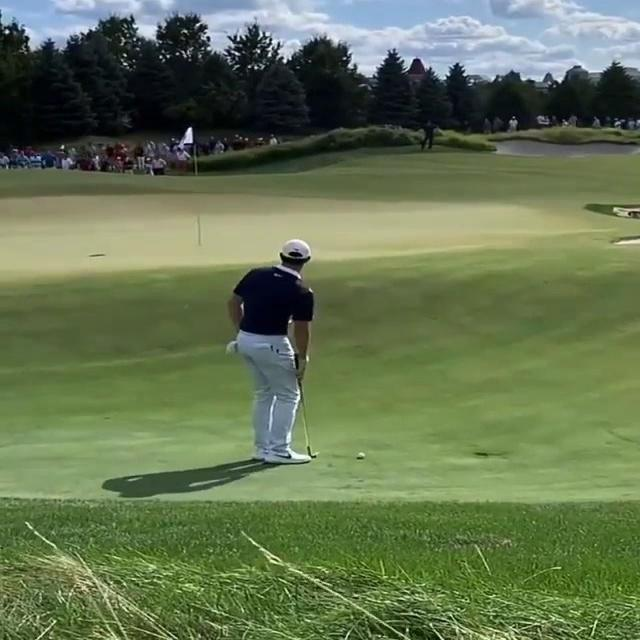ClubHead: (311, 451, 322, 458)
GolfBall: (356, 452, 366, 460)
